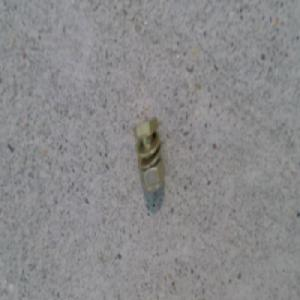BoltNutSet: (135, 117, 165, 192)
